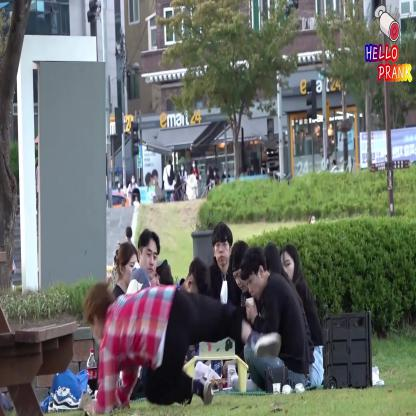Fall_Down: (79, 284, 283, 416)
